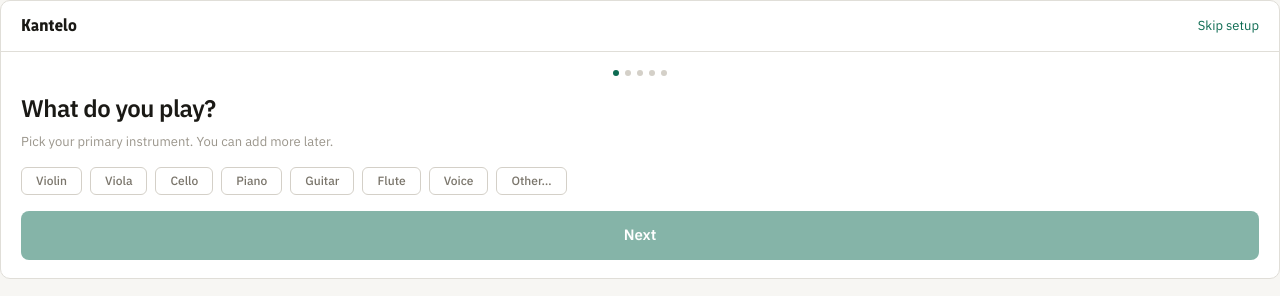
Test: QuickStartWizard — validation › blocks the instrument step until something is picked
This screenshot has width=1280, height=296.
Expected: the button "Next" is disabled, [21, 211, 1259, 260]
Click the button "Cello".
click(184, 181)  # box [156, 167, 213, 195]
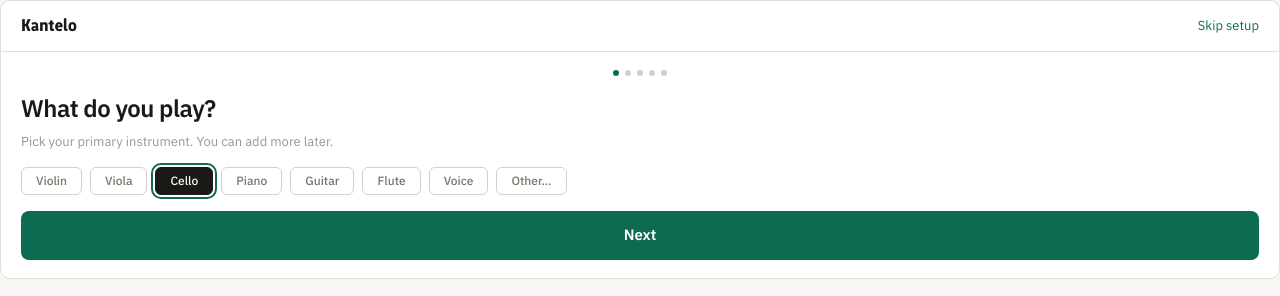
Now the button "Next" is enabled, box [21, 211, 1259, 260]
